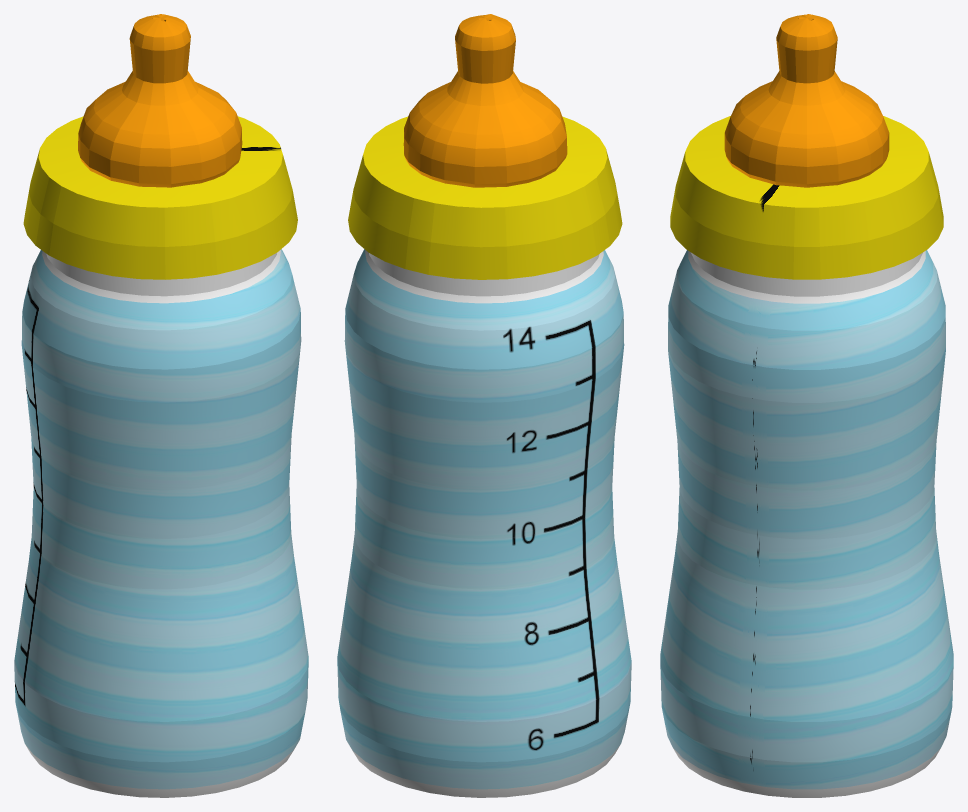
File: Milk bottle.fbx
3 views of the same model, side by side, from view 1: azimuth 30°, elevation 25°; view 2: azimuth 150°, elevation 25°; view 3: azimuth 270°, elevation 25° (orthographic).
Visible parts, largest first — view 1: polySurface2, polySurface3, polySurface4; view 2: polySurface2, polySurface3, polySurface4; view 3: polySurface2, polySurface3, polySurface4.
Part boxes in pixels (x1,y1,x2,y2): polySurface2: [14, 249, 308, 797]; polySurface3: [23, 116, 297, 279]; polySurface4: [78, 14, 242, 187]; polySurface2: [337, 249, 631, 797]; polySurface3: [348, 116, 622, 279]; polySurface4: [403, 14, 567, 187]; polySurface2: [660, 250, 953, 797]; polySurface3: [670, 116, 943, 279]; polySurface4: [724, 14, 889, 187].
Size of the model in its own units: 7.7 by 21.01 by 7.7.
1 material, 1 textured.
